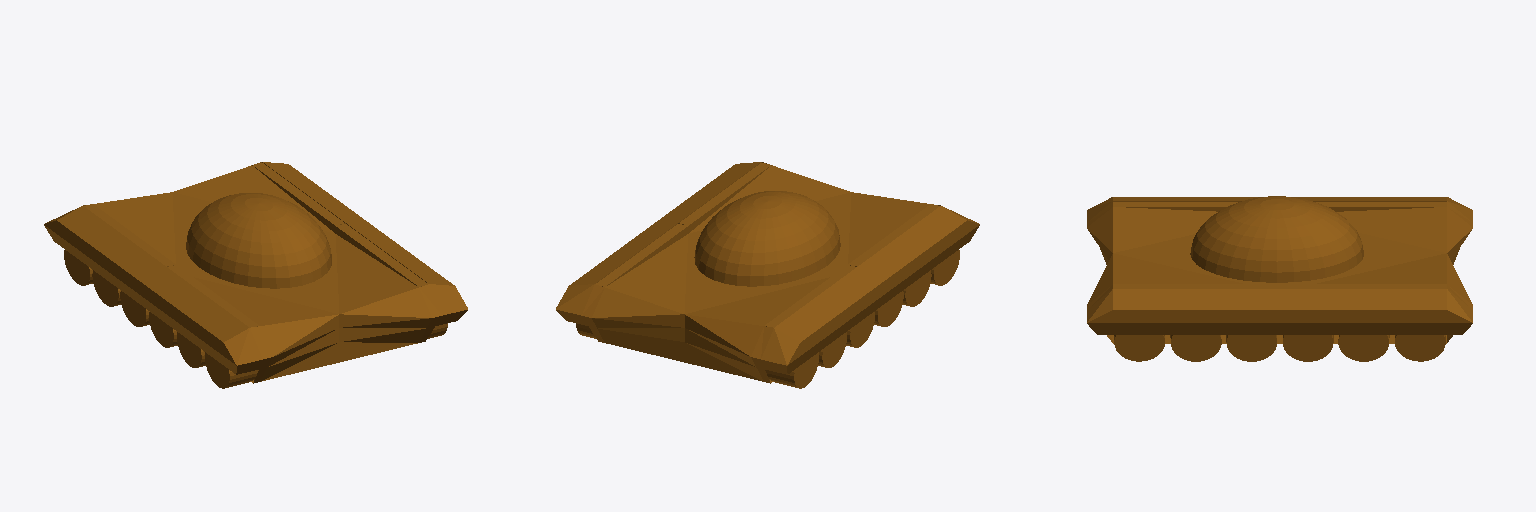
File: tank.obj
3 views of the same model, side by side, from view 1: azimuth 30°, elevation 25°; view 2: azimuth 150°, elevation 25°; view 3: azimuth 270°, elevation 25° (orthographic).
Parts seen in each view (by area): view 1: Cube, Sphere; view 2: Cube, Sphere; view 3: Cube, Sphere.
Boxes of the visible parts, x1=… form: Cube: x1=44, y1=162, x2=467, y2=388; Sphere: x1=186, y1=193, x2=331, y2=288; Cube: x1=556, y1=162, x2=979, y2=388; Sphere: x1=694, y1=191, x2=840, y2=286; Cube: x1=1087, y1=197, x2=1472, y2=361; Sphere: x1=1190, y1=196, x2=1363, y2=282.
Size of the model in its own units: 6.39 by 2.8 by 9.23.